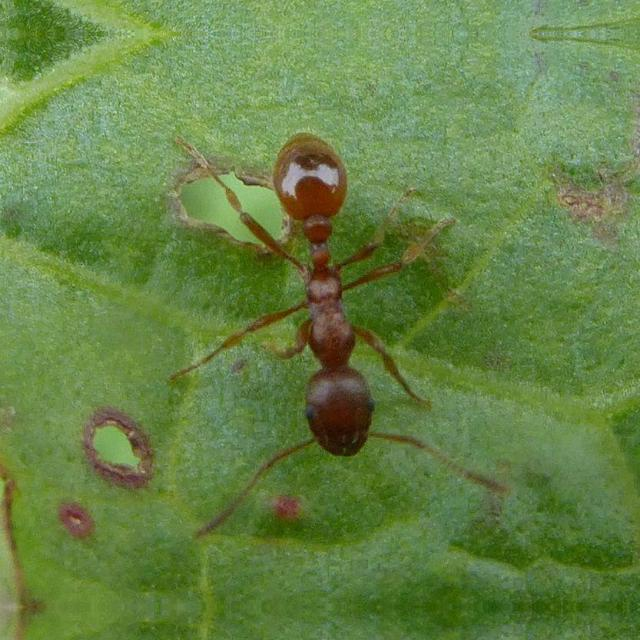Myrmica: (166, 88, 410, 466)
